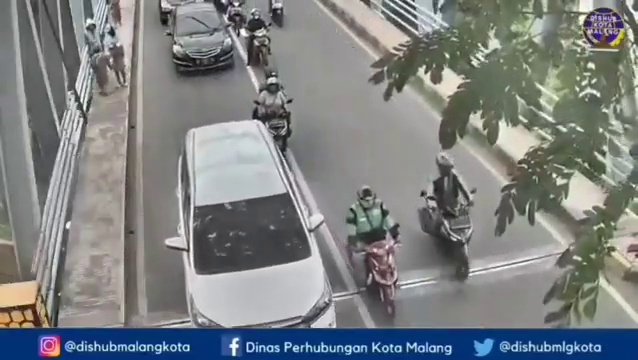car: (177, 124, 337, 331), (167, 5, 233, 79)
motorbike: (419, 151, 478, 276), (343, 188, 400, 317), (251, 68, 291, 152), (241, 11, 275, 72)
